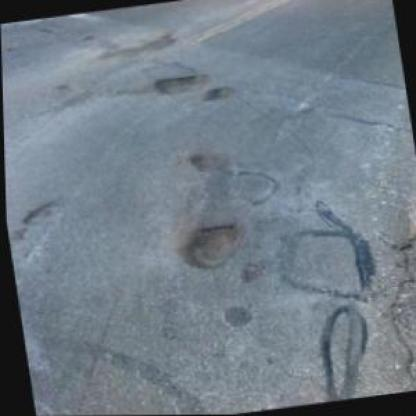pothole: (378, 236, 414, 394), (179, 218, 248, 272), (151, 68, 211, 98), (19, 197, 61, 230), (201, 84, 233, 106)
